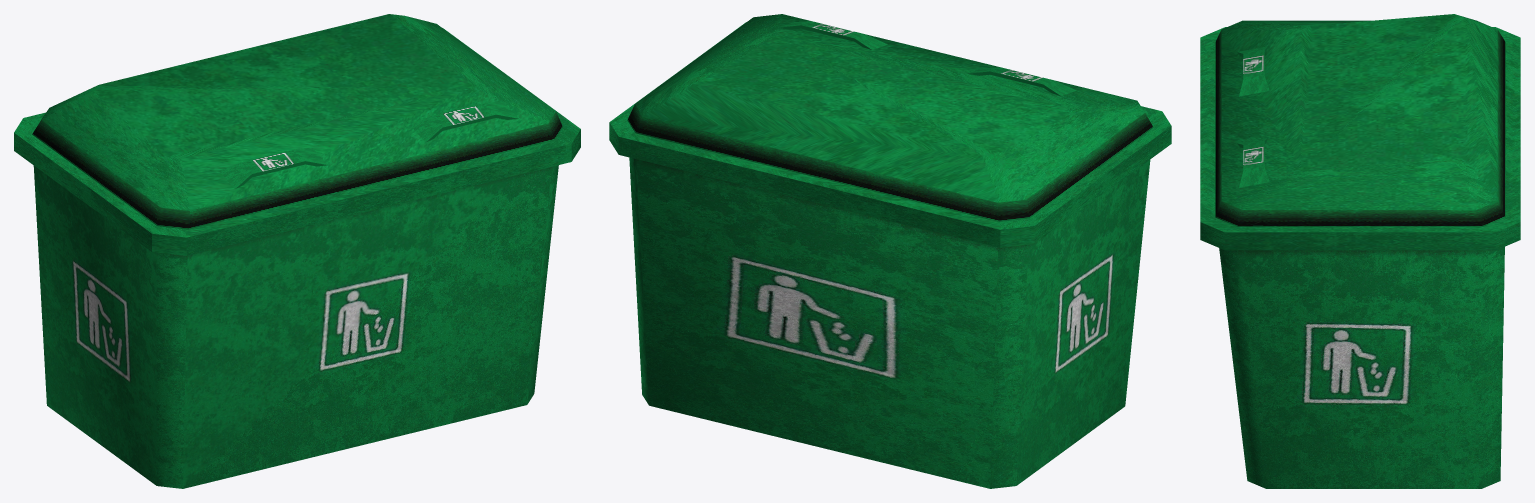
The model's file is UDC_GarbageBinBig.obj.
3 renders of one model, left to right at view 1: azimuth 30°, elevation 25°; view 2: azimuth 150°, elevation 25°; view 3: azimuth 270°, elevation 25°, orthographic.
Parts seen in each view (by area): view 1: UDC_GarbageBinBig; view 2: UDC_GarbageBinBig; view 3: UDC_GarbageBinBig.
Boxes of the visible parts, x1,y1,x2,y2 form: UDC_GarbageBinBig: (14, 14, 580, 488); UDC_GarbageBinBig: (609, 14, 1171, 488); UDC_GarbageBinBig: (1200, 14, 1520, 488).
Bounding box in the file's own units: 0.6368 × 0.4487 × 0.4202.
Materials: 1 (1 with a texture image).
